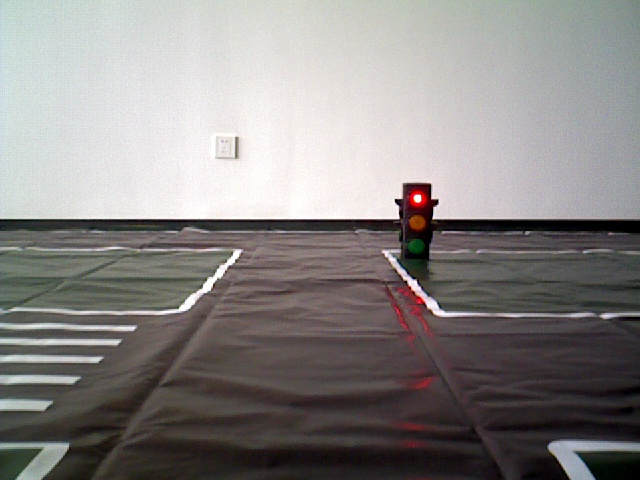red: (400, 184, 432, 257)
